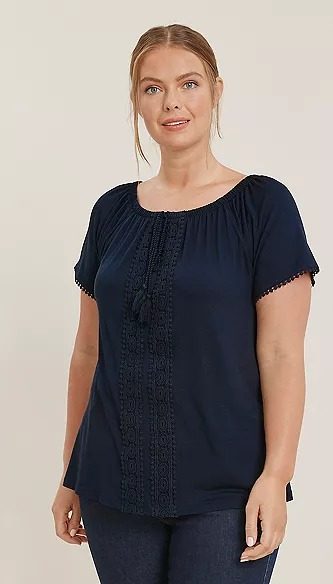S_short blouse: (74, 172, 319, 518)
